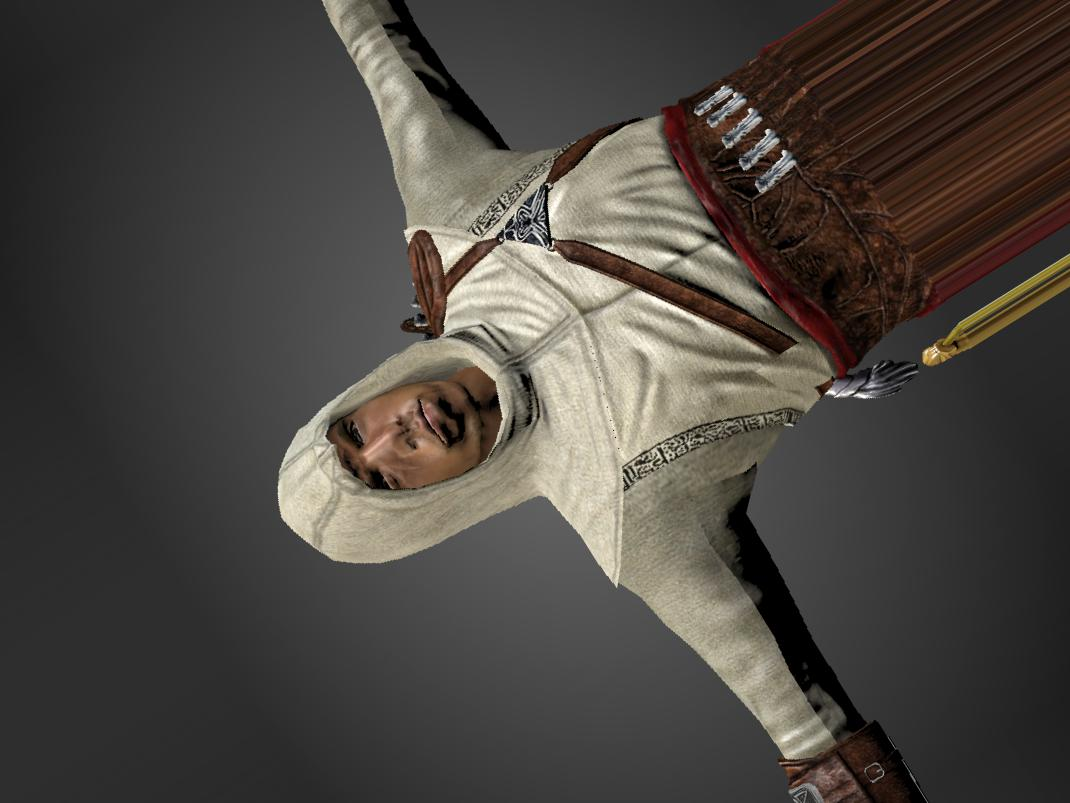clip: (769, 336, 833, 390)
